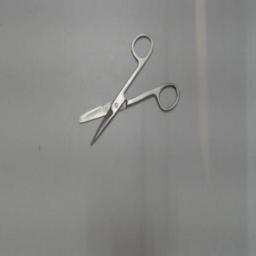Dressing Scissors: (68, 32, 182, 150)
